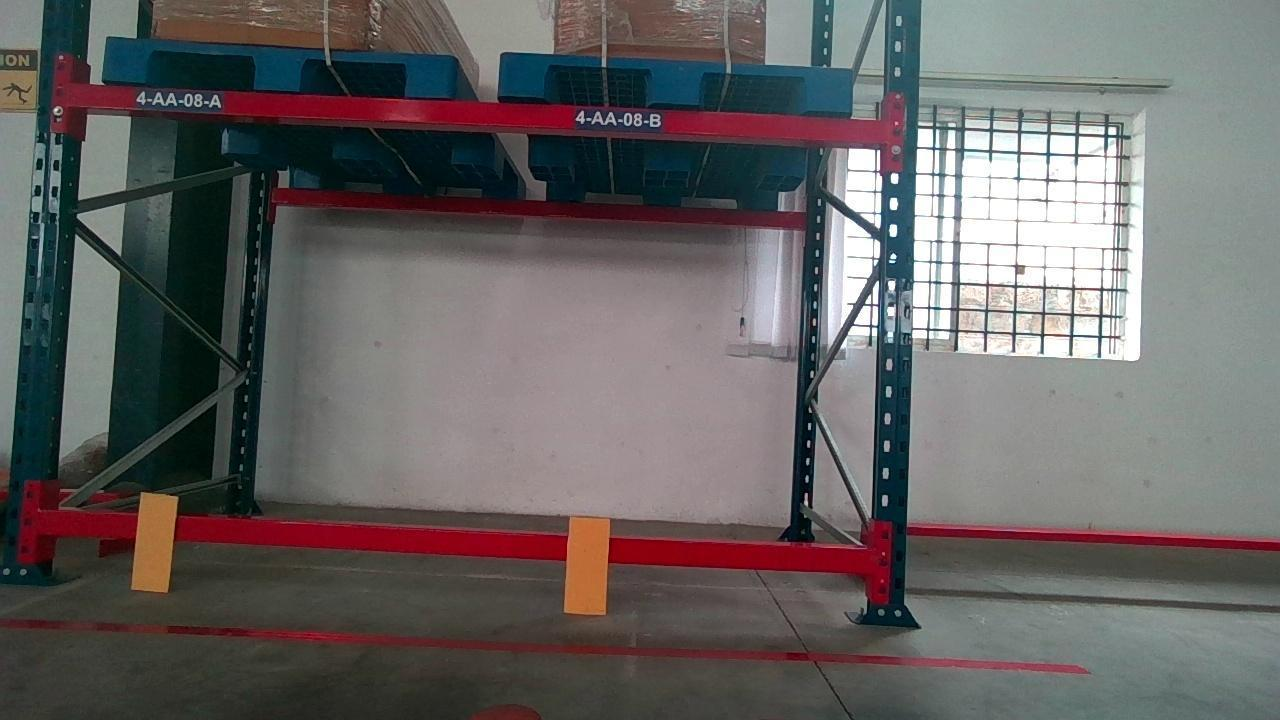h_rack: (32, 505, 880, 572), (73, 85, 888, 145)
orange_strip: (564, 515, 609, 612), (130, 492, 175, 589)
red_line: (0, 617, 1087, 673)
small_pallet: (503, 55, 850, 108), (104, 44, 451, 91)
